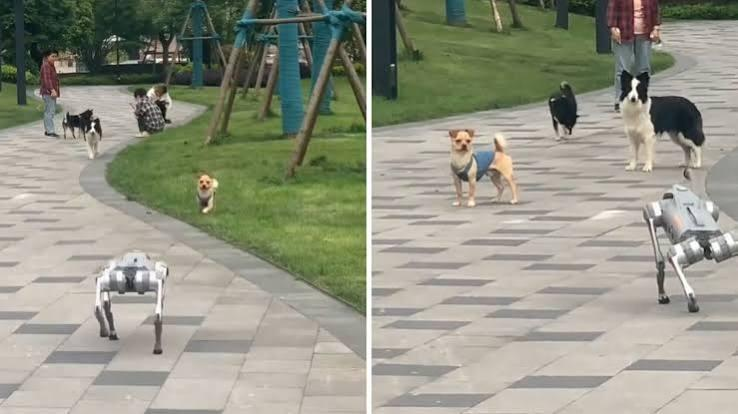adult_dog: (618, 69, 706, 173), (449, 129, 519, 208), (547, 81, 579, 142), (62, 108, 94, 142), (83, 117, 103, 159)
non-dog: (640, 168, 738, 314), (93, 250, 170, 355), (605, 0, 664, 113), (39, 48, 67, 138), (132, 87, 166, 135), (147, 83, 171, 124)
puppy-dog: (195, 174, 219, 215)
